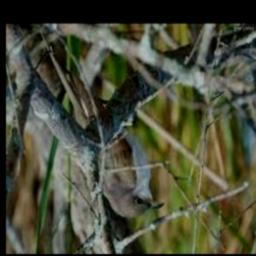Cuckoo: (56, 65, 165, 217)
